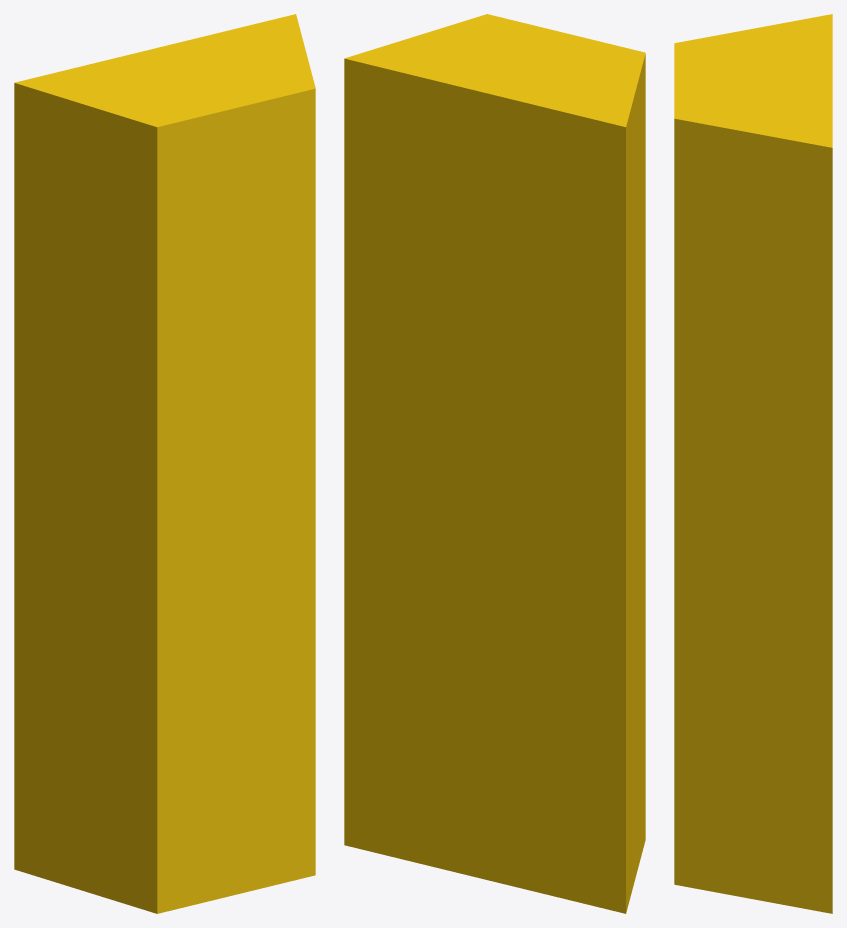
File: silver.fbx
3 renders of one model, left to right at view 1: azimuth 30°, elevation 25°; view 2: azimuth 150°, elevation 25°; view 3: azimuth 270°, elevation 25°, orthographic. The views are drawn at different scales.
Parts seen in each view (by area): view 1: gold; view 2: gold; view 3: gold.
Boxes of the visible parts, x1,y1,x2,y2 form: gold: (14,14,315,913); gold: (344,14,645,913); gold: (674,14,832,913).
Bounding box in the file's own units: 0.105 × 0.28 × 0.0525.
